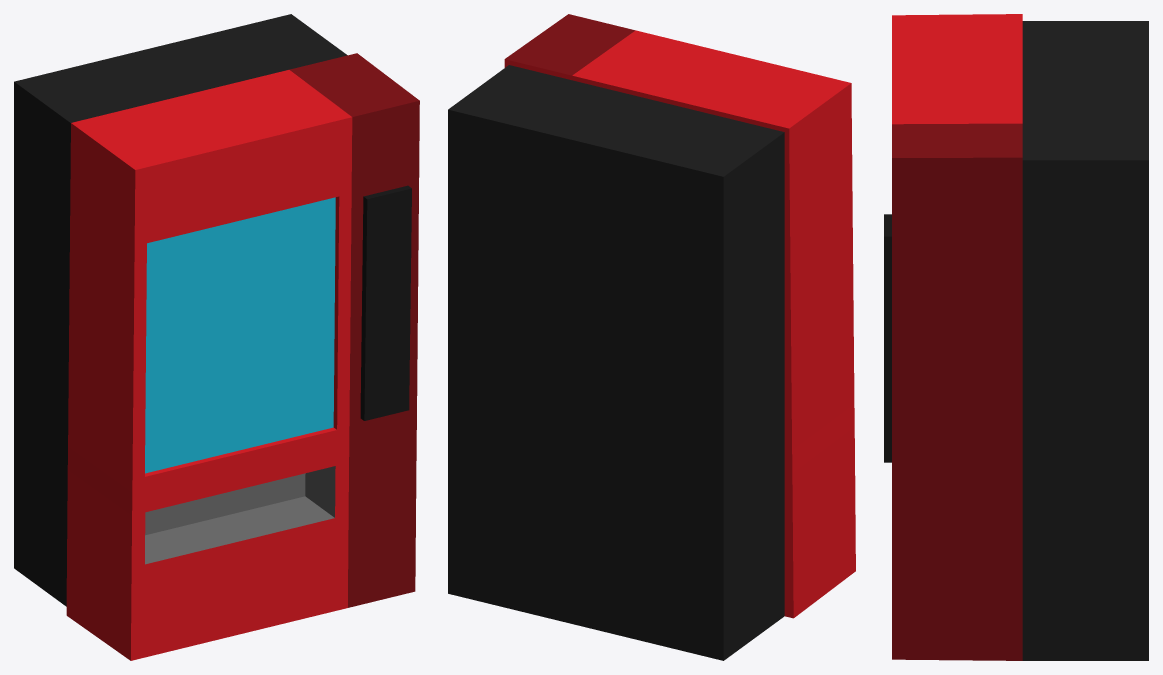
The model's file is vendMachine.fbx.
3 views of the same model, side by side, from view 1: azimuth 30°, elevation 25°; view 2: azimuth 150°, elevation 25°; view 3: azimuth 270°, elevation 25° (orthographic). The views are drawn at different scales.
Parts seen in each view (by area): view 1: Cube; view 2: Cube; view 3: Cube.
Boxes of the visible parts, x1=… form: Cube: x1=14, y1=14, x2=419, y2=660; Cube: x1=448, y1=14, x2=855, y2=660; Cube: x1=884, y1=14, x2=1148, y2=660.
Bounding box in the file's own units: 257 × 416 × 198.
